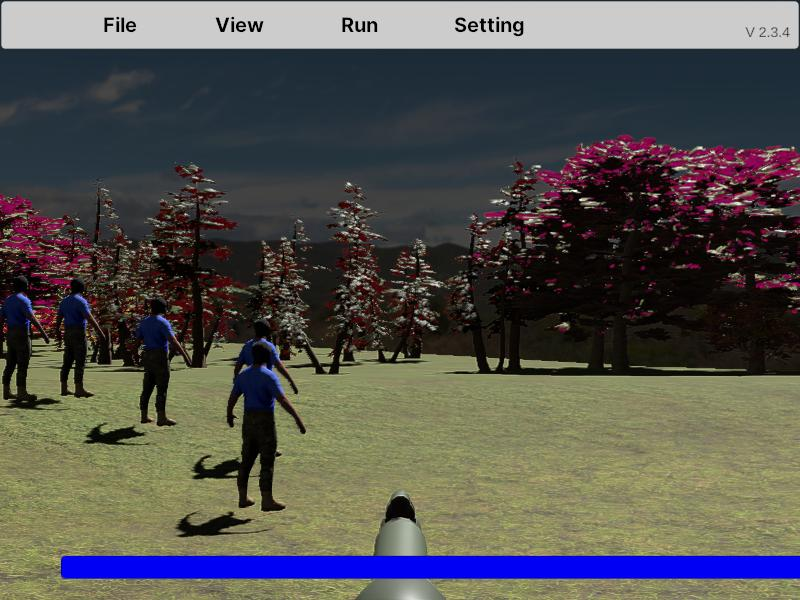Human: (226, 343, 306, 514), (134, 296, 191, 427), (0, 276, 48, 402), (55, 278, 105, 398)
